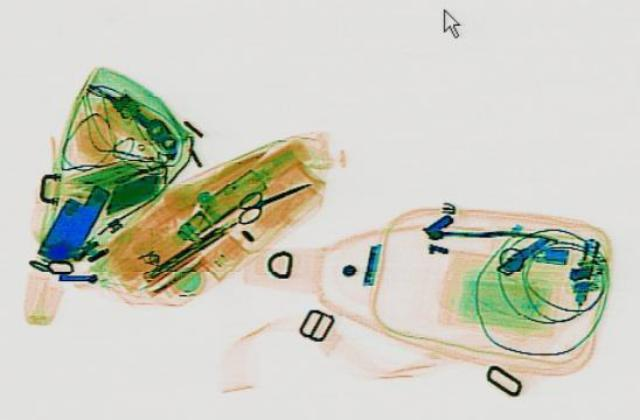Scissors: (218, 171, 322, 223)
